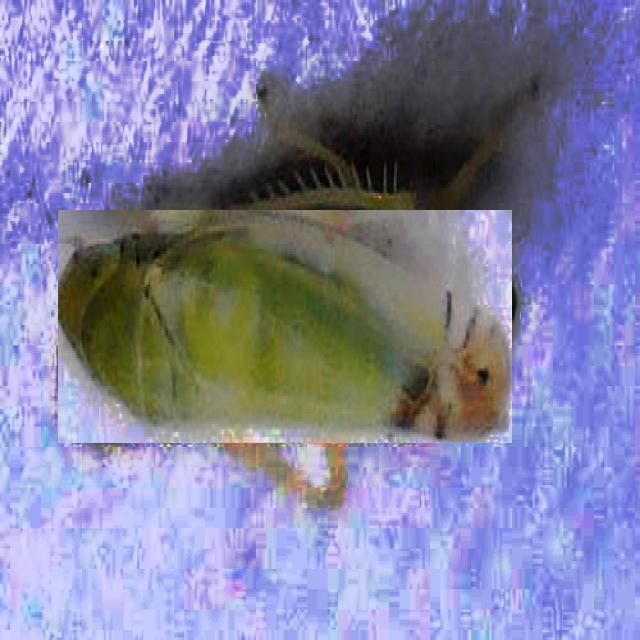green-leafhopper: (58, 210, 512, 443)
